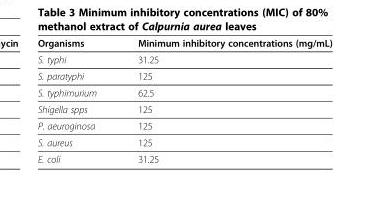table: (36, 36, 331, 164)
table column: (116, 36, 331, 164), (36, 36, 116, 164)
table column header: (36, 36, 331, 50)
table row: (36, 50, 331, 67), (36, 67, 331, 84), (36, 100, 331, 117), (36, 133, 331, 150), (36, 84, 331, 100), (36, 117, 331, 133), (36, 36, 331, 50), (36, 150, 331, 164)
